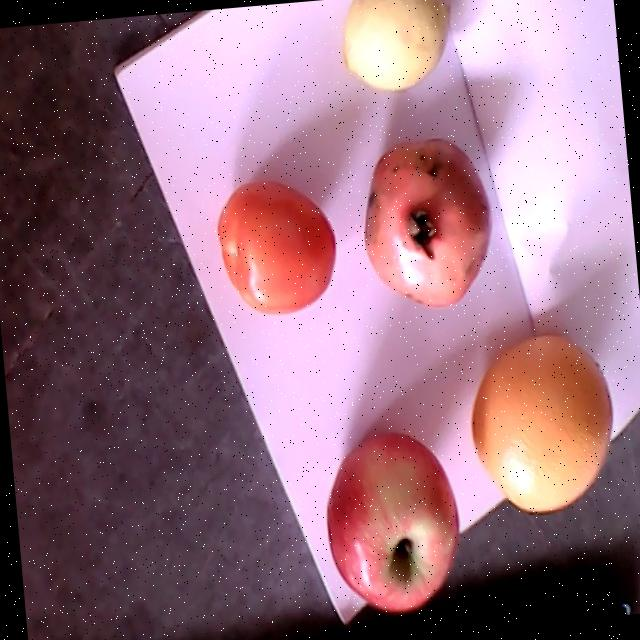apple: (326, 432, 458, 611)
lemon: (342, 0, 449, 88)
orange: (470, 333, 611, 512)
pomegranate: (363, 137, 489, 308)
tomato: (216, 181, 334, 314)
